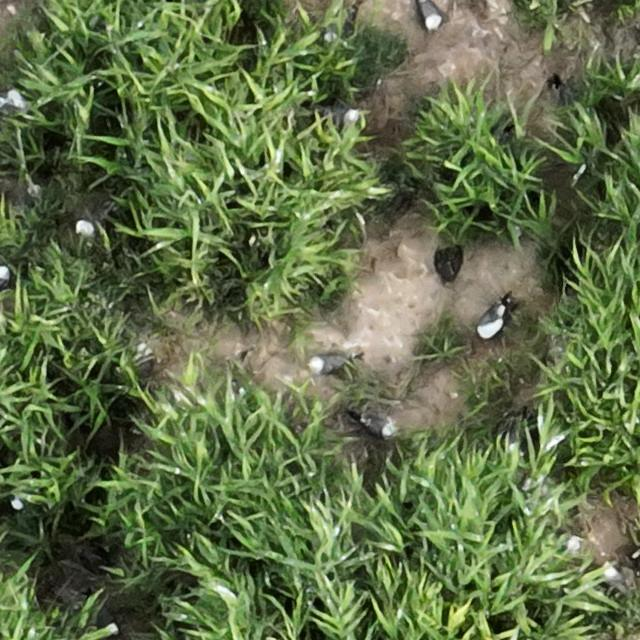umineko: (478, 305, 503, 336), (361, 414, 393, 435), (313, 355, 348, 373), (418, 1, 440, 29), (331, 107, 363, 124), (0, 263, 8, 290)
